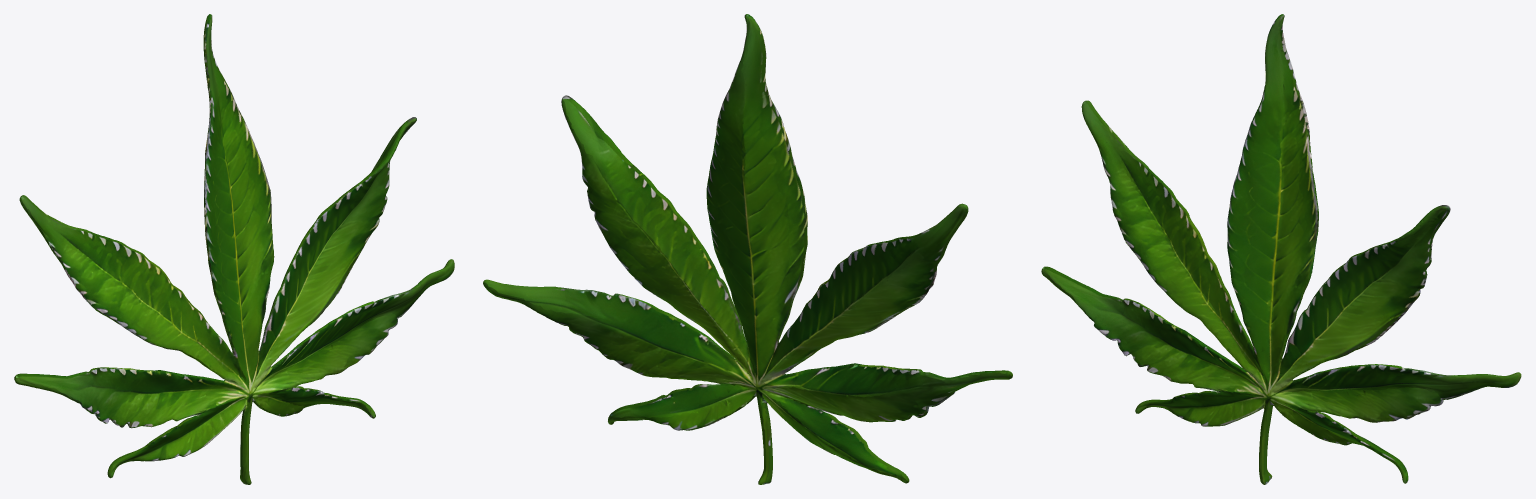
Rendered from 1780396255475_weed_drugs_marijuana_flower.glb.
3 views of the same model, side by side, from view 1: azimuth 30°, elevation 25°; view 2: azimuth 150°, elevation 25°; view 3: azimuth 330°, elevation 25° (orthographic). The views are drawn at different scales.
Parts seen in each view (by area): view 1: textured_mesh; view 2: textured_mesh; view 3: textured_mesh.
Part boxes in pixels (x1,y1,x2,y2): textured_mesh: [14, 14, 454, 484]; textured_mesh: [483, 14, 1012, 484]; textured_mesh: [1041, 14, 1521, 484].
Size of the model in its own units: 1.99 by 1.86 by 0.2623.
Materials: 1 (1 with a texture image).
